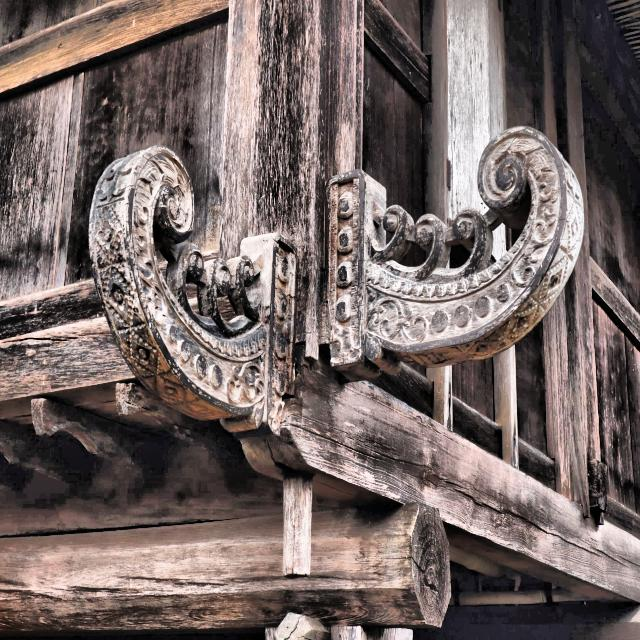ornamen: (319, 126, 584, 380), (89, 145, 299, 436)
wall: (0, 0, 640, 548)
